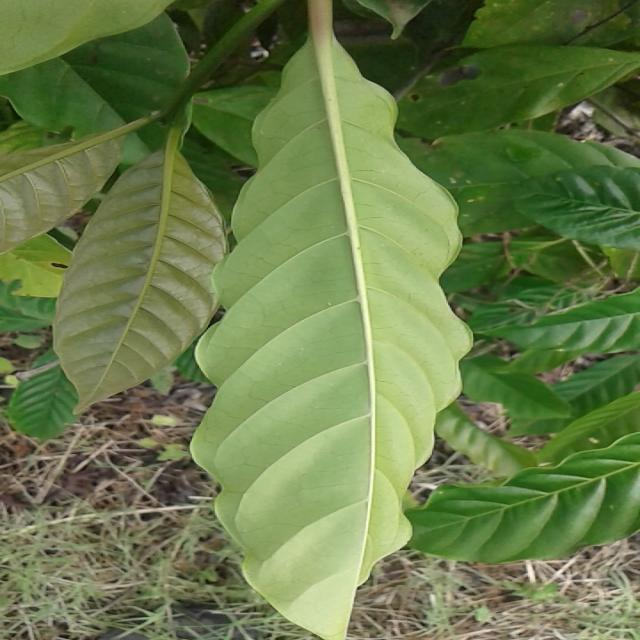Sanas: (189, 0, 474, 640)
